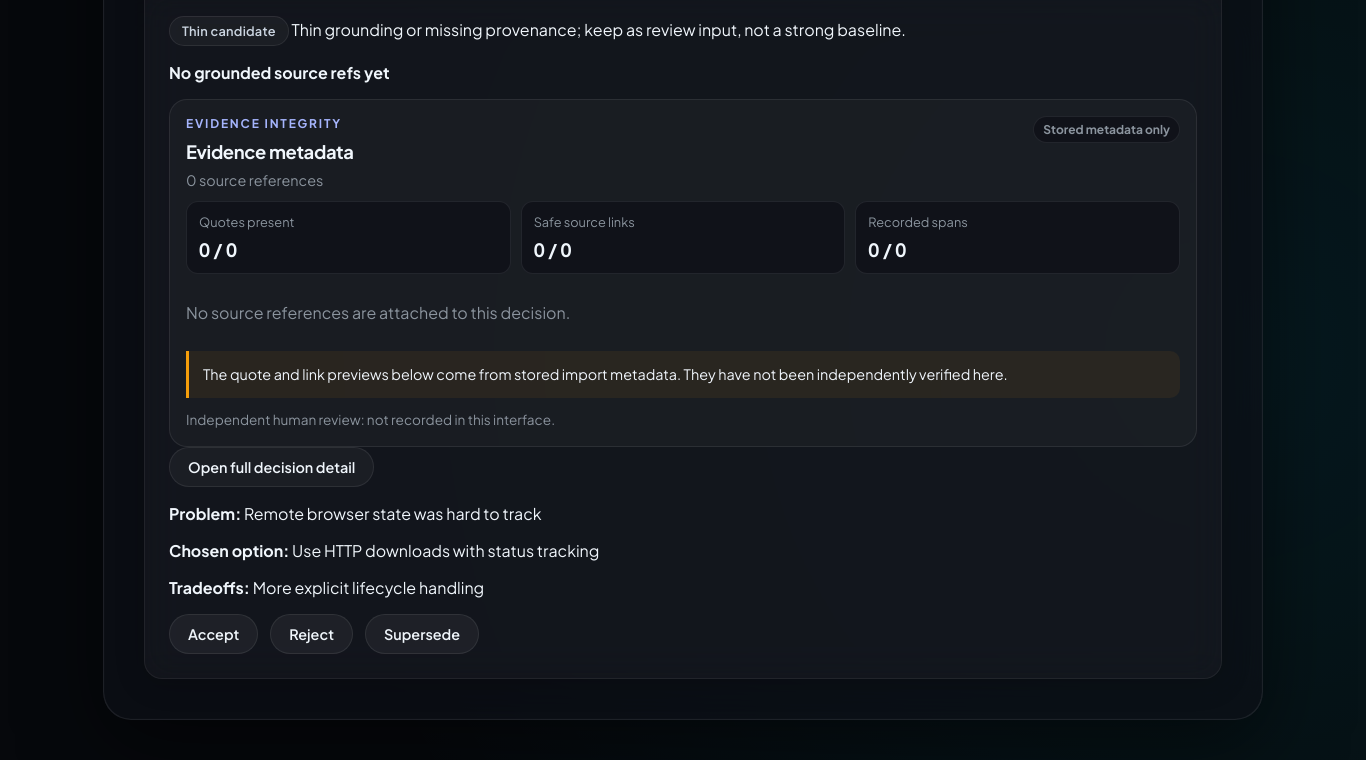
Test: ReviewPageContent › shows imported downstream entry points after candidates are reviewed
This screenshot has width=1366, height=760.
(page scrolled)
Click the button "Accept". click: (214, 634)
box: [169, 614, 258, 654]
(page scrolled)
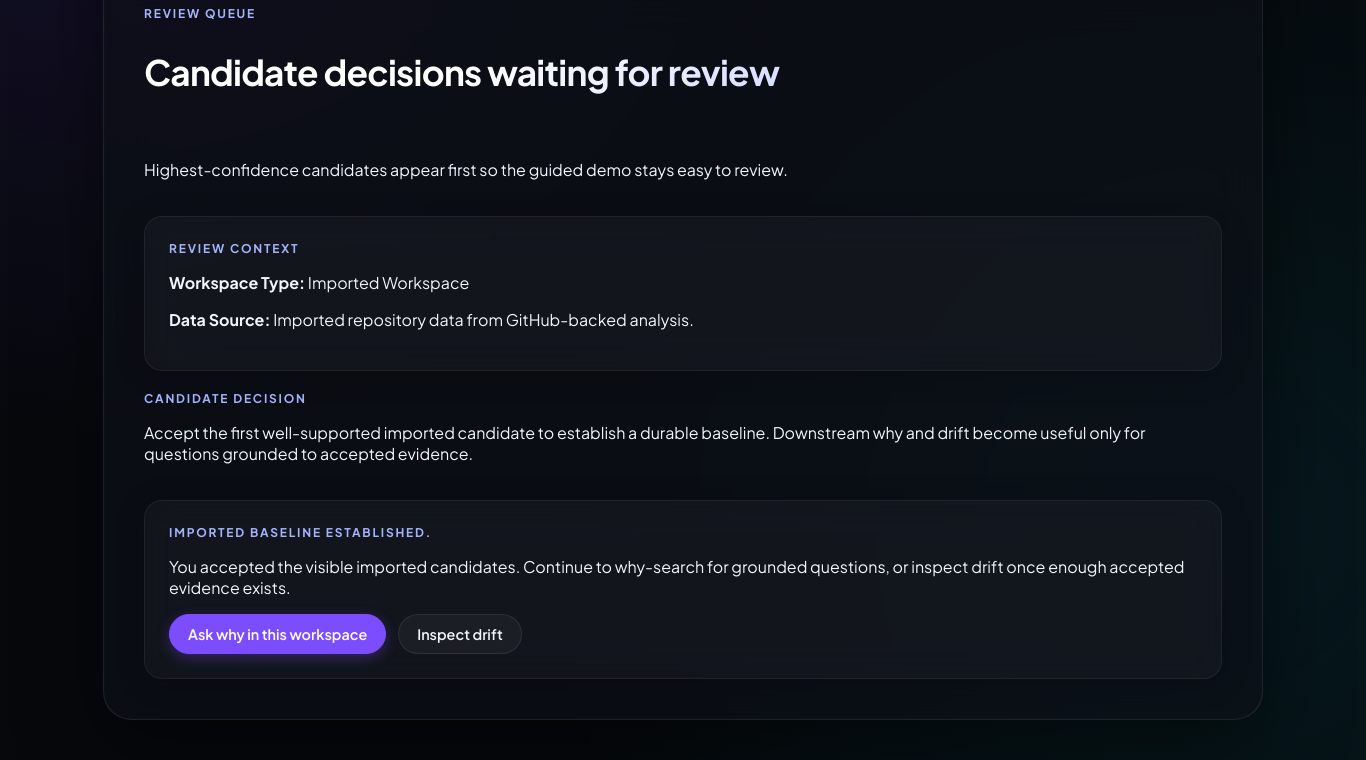
Expected: the text "Imported baseline established." is shown, [169, 525, 432, 540]
